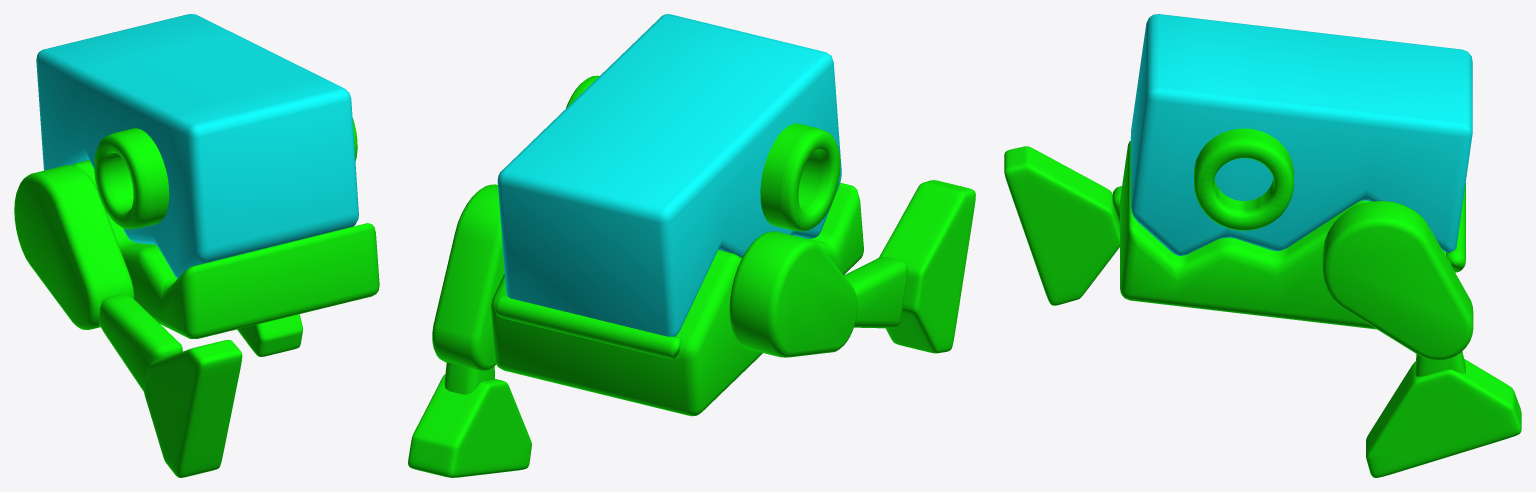
3 renders of one model, left to right at view 1: azimuth 30°, elevation 25°; view 2: azimuth 150°, elevation 25°; view 3: azimuth 270°, elevation 25°, orthographic. The views are drawn at different scales.
Parts seen in each view (by area): view 1: Top_Jaw, Lower_Jaw, Thighs_Left, Feet_Left, Eyes, Shin_Left, Feet_Right; view 2: Top_Jaw, Lower_Jaw, Thighs_Left, Feet_Left, Feet_Right, Thighs_Right, Eyes, Hinge, Shin_Left, Shin_Right; view 3: Top_Jaw, Thighs_Right, Lower_Jaw, Feet_Left, Feet_Right, Eyes, Shin_Right, Hinge.
Part boxes in pixels (left/top/right/bottom): Top_Jaw: left=36, top=14, right=358, bottom=278; Lower_Jaw: left=72, top=160, right=379, bottom=338; Thighs_Left: left=14, top=165, right=134, bottom=329; Feet_Left: left=144, top=340, right=242, bottom=477; Eyes: left=94, top=118, right=357, bottom=229; Shin_Left: left=98, top=294, right=182, bottom=391; Feet_Right: left=237, top=314, right=302, bottom=356; Top_Jaw: left=497, top=14, right=841, bottom=336; Lower_Jaw: left=491, top=182, right=863, bottom=416; Thighs_Left: left=729, top=231, right=857, bottom=357; Feet_Left: left=879, top=180, right=975, bottom=353; Feet_Right: left=408, top=374, right=531, bottom=477; Thighs_Right: left=432, top=184, right=504, bottom=370; Eyes: left=566, top=75, right=840, bottom=231; Hinge: left=495, top=295, right=682, bottom=359; Shin_Left: left=844, top=257, right=907, bottom=328; Shin_Right: left=444, top=362, right=494, bottom=394; Top_Jaw: left=1130, top=14, right=1472, bottom=255; Thighs_Right: left=1322, top=201, right=1473, bottom=360; Lower_Jaw: left=1120, top=140, right=1452, bottom=329; Feet_Left: left=1004, top=146, right=1119, bottom=305; Feet_Right: left=1366, top=359, right=1521, bottom=477; Eyes: left=1194, top=128, right=1293, bottom=230; Shin_Right: left=1415, top=351, right=1465, bottom=376; Hinge: left=1446, top=183, right=1465, bottom=272.
Size of the model in its own units: 2.03 by 2.41 by 3.14.
